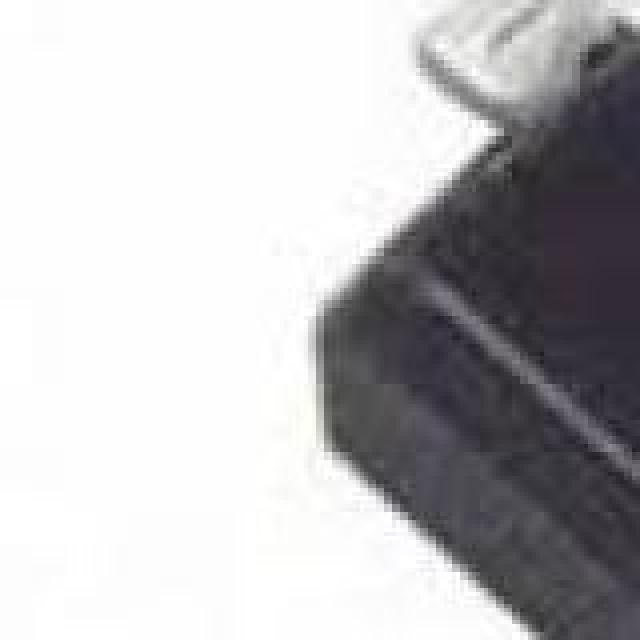transistor: (300, 0, 640, 640)
